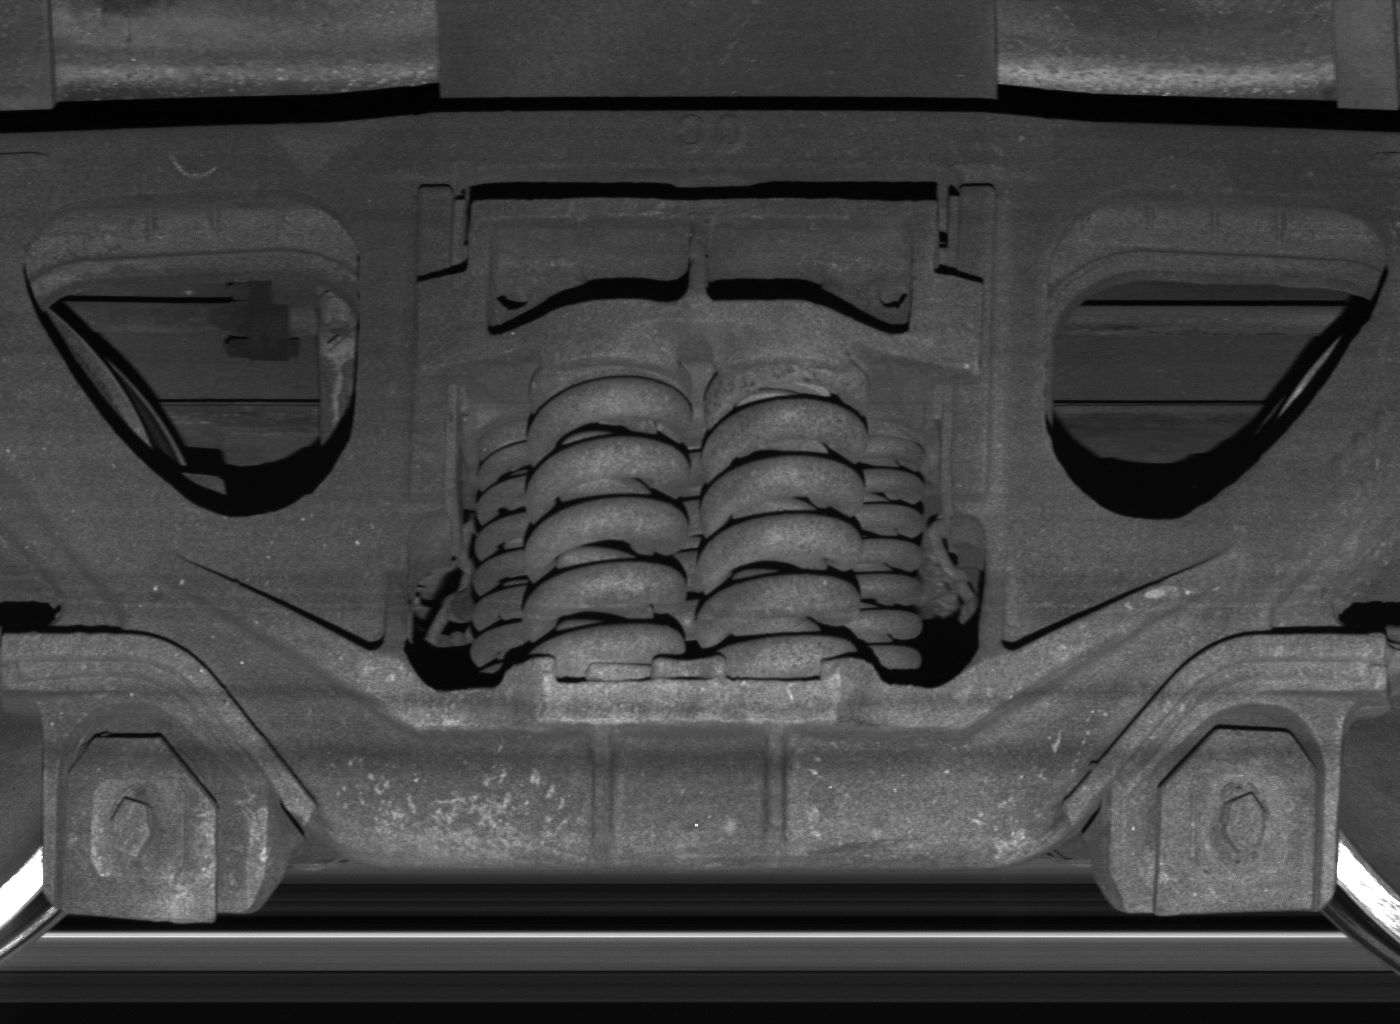locking plate: (42, 704, 268, 926), (1110, 702, 1338, 917)
